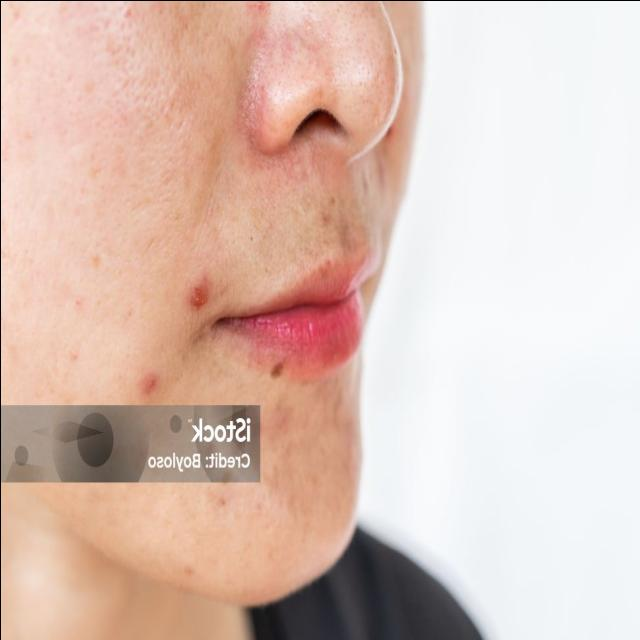papule: (185, 267, 213, 315), (135, 362, 162, 394), (237, 0, 274, 21)
